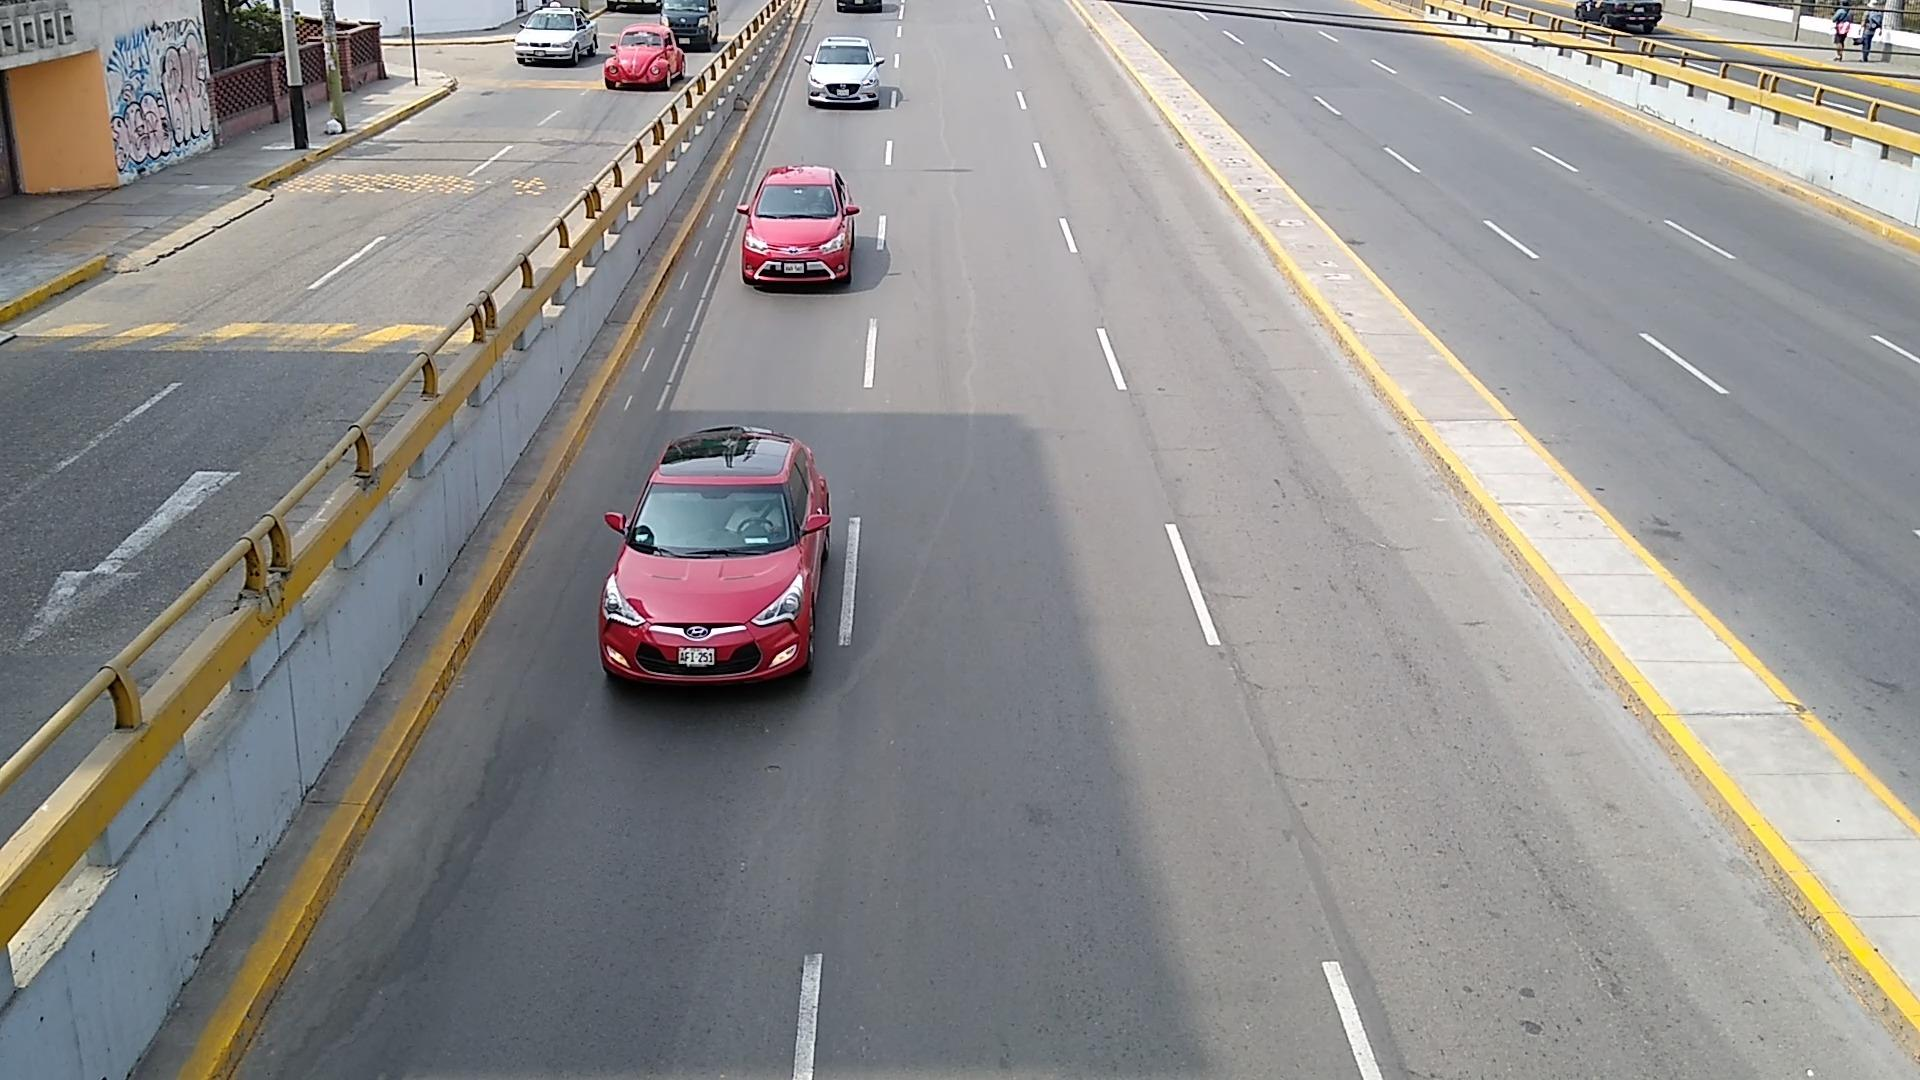car: (600, 423, 832, 684), (738, 165, 858, 285), (604, 26, 686, 88), (806, 37, 881, 103), (514, 8, 600, 63), (659, 0, 720, 47)
